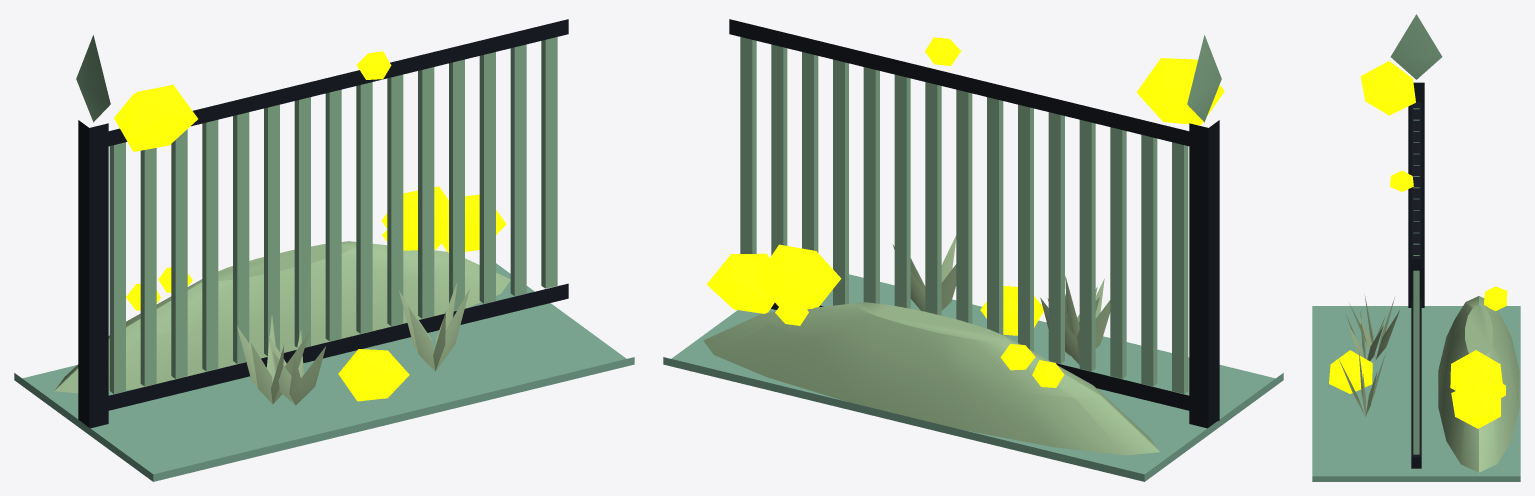
File: v1_panel.glb
The picture shows the model from 3 angles, left to right: view 1: azimuth 30°, elevation 25°; view 2: azimuth 150°, elevation 25°; view 3: azimuth 270°, elevation 25°; orthographic projection. The views are drawn at different scales.
Visible parts, largest first — view 1: Infill, Safety_Pad, Terrain, Rails, Foliage, Posts, Grass_Tufts, Leaf_Crests; view 2: Infill, Terrain, Safety_Pad, Foliage, Posts, Rails, Grass_Tufts, Leaf_Crests; view 3: Safety_Pad, Terrain, Foliage, Rails, Posts, Leaf_Crests, Grass_Tufts, Infill.
Boxes of the visible parts, x1,y1,x2,y2 form: Infill: [109, 37, 557, 393]; Safety_Pad: [14, 263, 634, 481]; Terrain: [54, 241, 510, 393]; Rails: [108, 19, 568, 410]; Foliage: [114, 51, 506, 401]; Posts: [78, 120, 108, 428]; Grass_Tufts: [237, 282, 469, 405]; Leaf_Crests: [76, 35, 110, 122]; Infill: [740, 37, 1188, 393]; Terrain: [703, 302, 1159, 455]; Safety_Pad: [663, 274, 1283, 481]; Foliage: [706, 37, 1224, 387]; Posts: [1189, 120, 1219, 428]; Rails: [729, 19, 1189, 410]; Grass_Tufts: [892, 235, 1110, 364]; Leaf_Crests: [1187, 35, 1221, 122]; Safety_Pad: [1312, 306, 1520, 481]; Terrain: [1438, 296, 1519, 472]; Foliage: [1329, 61, 1507, 428]; Rails: [1411, 101, 1421, 468]; Posts: [1408, 82, 1424, 307]; Leaf_Crests: [1390, 14, 1442, 79]; Grass_Tufts: [1338, 294, 1399, 416]; Infill: [1413, 108, 1419, 454].
Size of what is drawn, in the model's own units: 2 by 1.57 by 1.
Materials: 7 (1 with a texture image).
